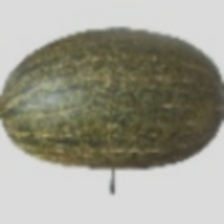honeydew: (34, 44, 220, 185)
